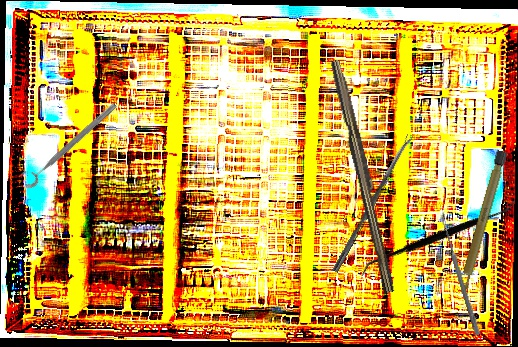Fixation Ring: (15, 94, 121, 192)
Scalpel Handle: (326, 58, 402, 294), (456, 149, 508, 296)
Spatula Surgical: (359, 151, 518, 325)
Surgical Spoon: (332, 133, 414, 274), (439, 218, 482, 336), (339, 86, 368, 198)
